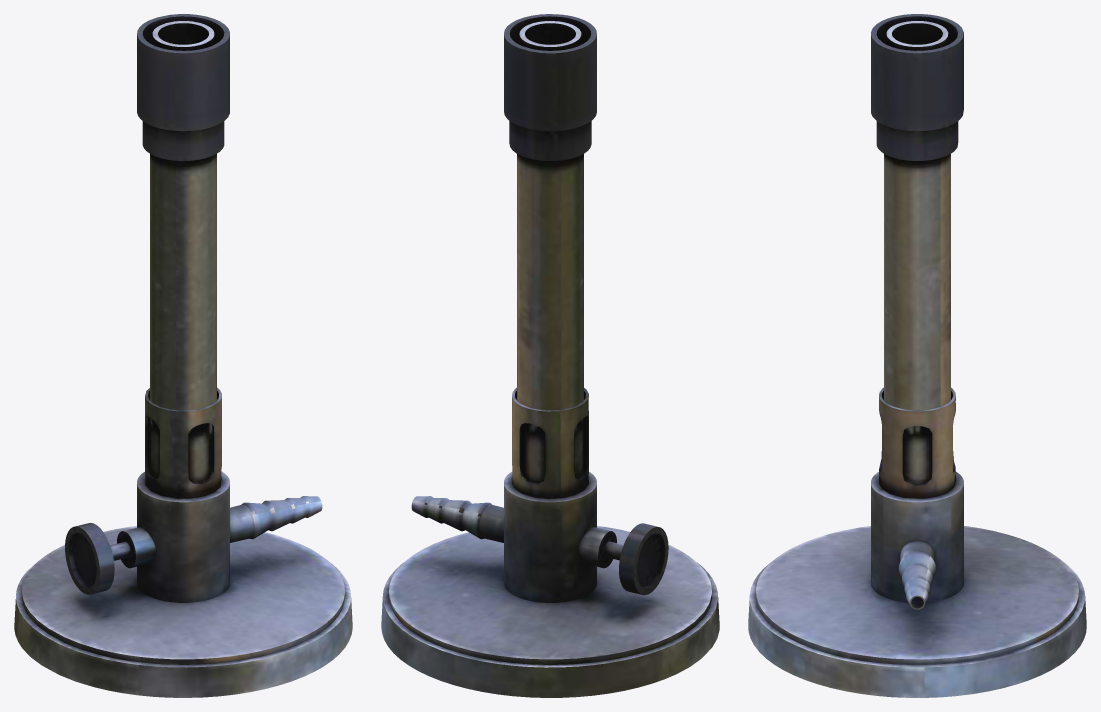
Rendered from bunsen_burner.glb.
3 renders of one model, left to right at view 1: azimuth 30°, elevation 25°; view 2: azimuth 150°, elevation 25°; view 3: azimuth 270°, elevation 25°, orthographic.
Visible parts, largest first — view 1: bunsen_burnerReduced; view 2: bunsen_burnerReduced; view 3: bunsen_burnerReduced.
Part boxes in pixels (x1,y1,x2,y2): bunsen_burnerReduced: (14, 14, 352, 697); bunsen_burnerReduced: (381, 14, 719, 697); bunsen_burnerReduced: (748, 14, 1086, 697).
Bounding box in the file's own units: 0.0717 × 0.1387 × 0.0718.
1 material, 1 textured.
